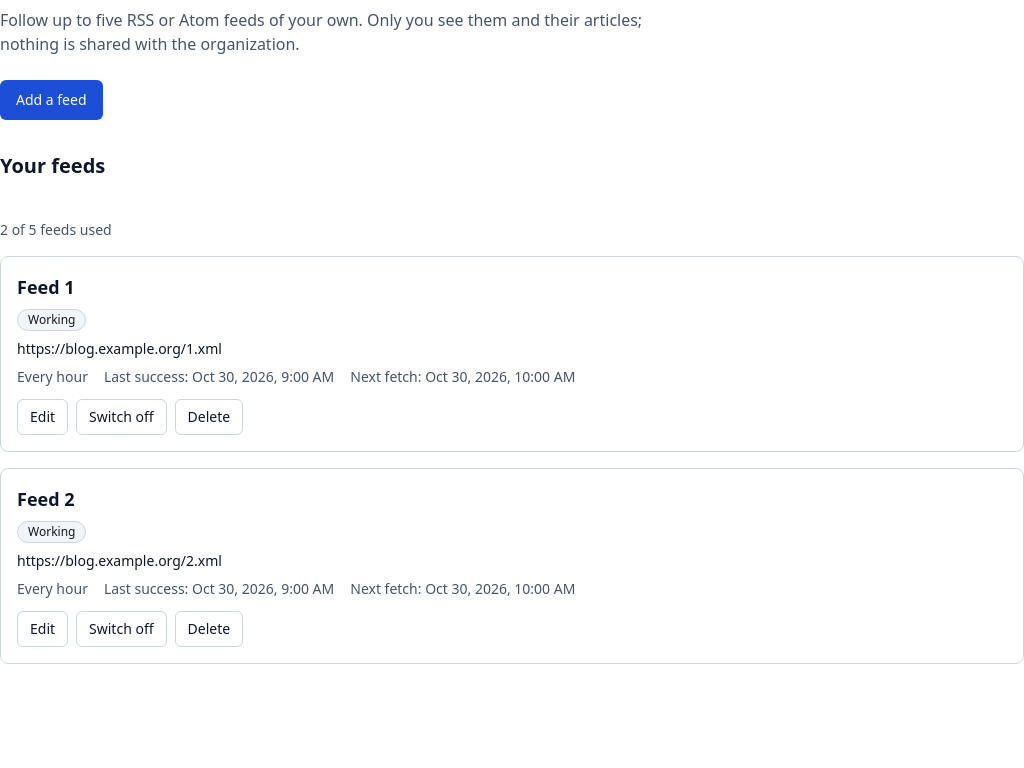
Test: adding › shows a refusal of the address at the field and keeps the dialog
Click the button "Add a feed" at (51, 100), box [0,80,102,120]
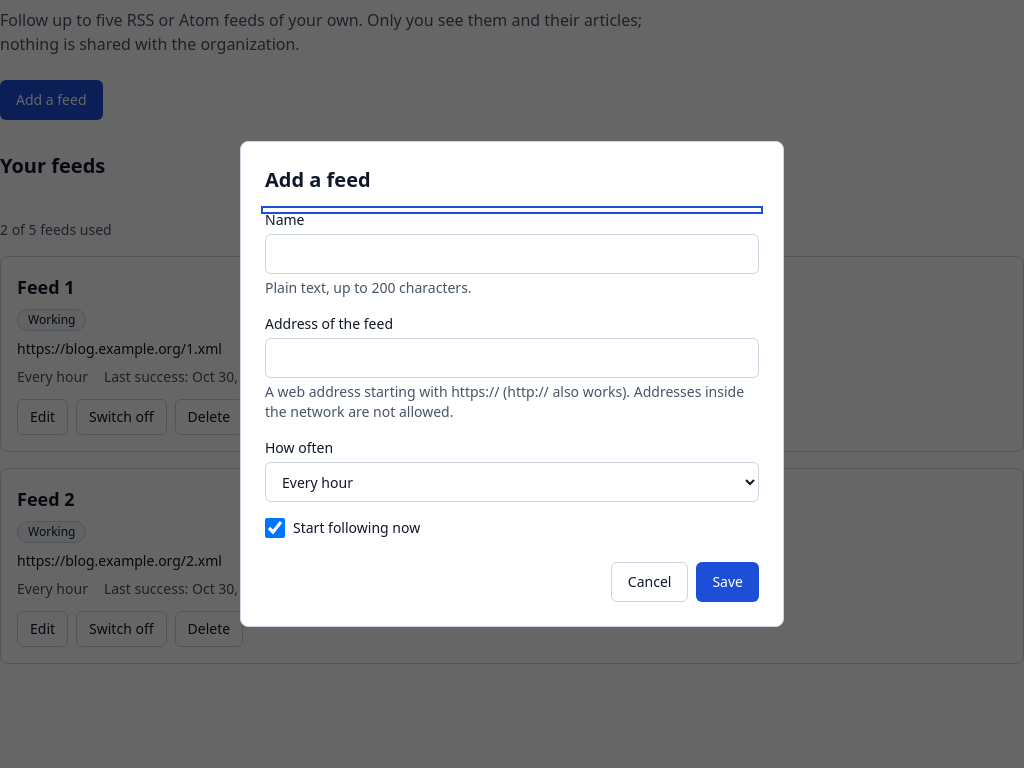
Type "Fresh" into the field labelled "Name" at (512, 254), box [265,234,759,274]
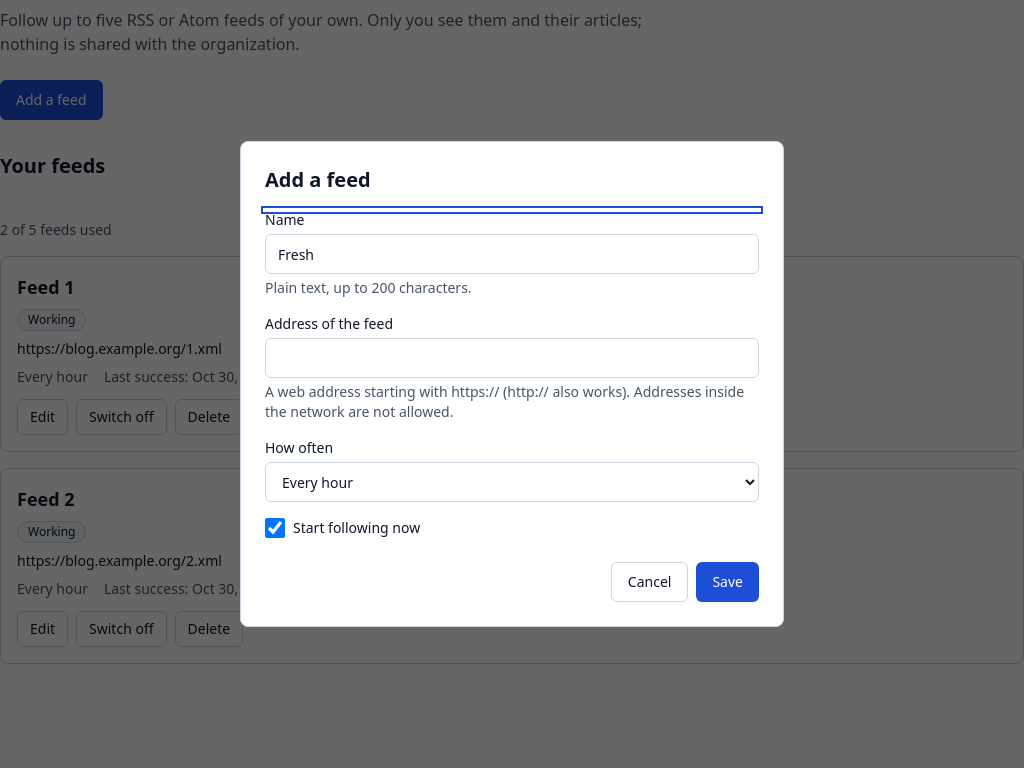
Type "http://127.1/" into the field labelled "Address of the feed" at (512, 358), box [265,338,759,378]
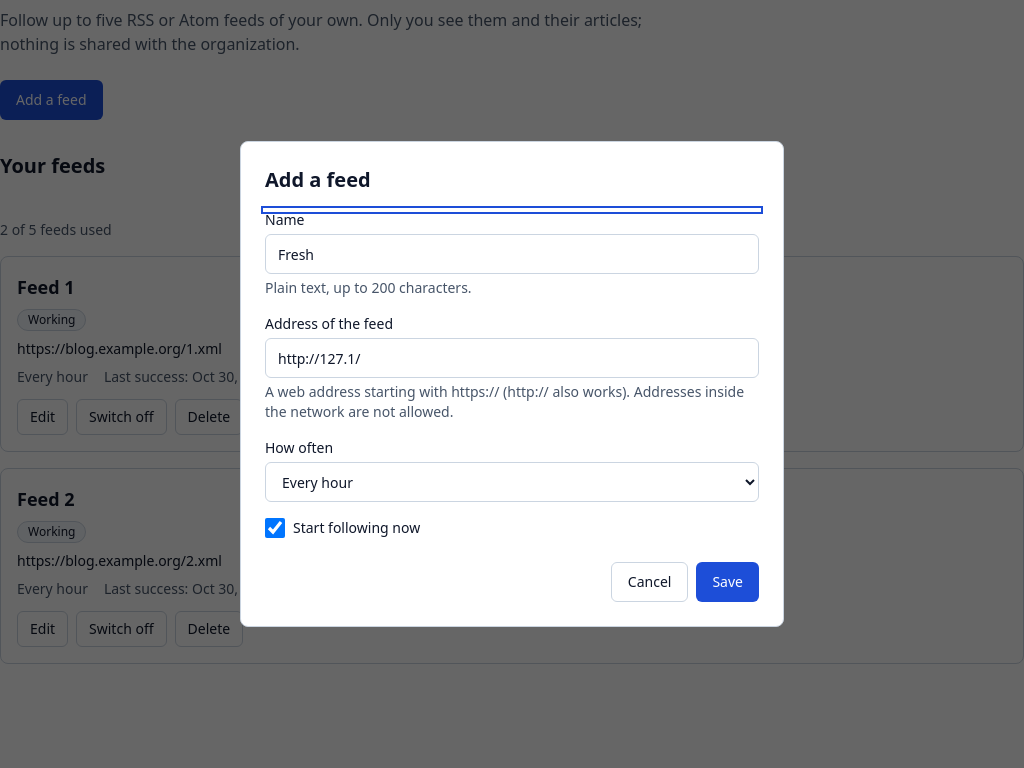
Click the button "Save" at (728, 582), box [696,562,759,602]
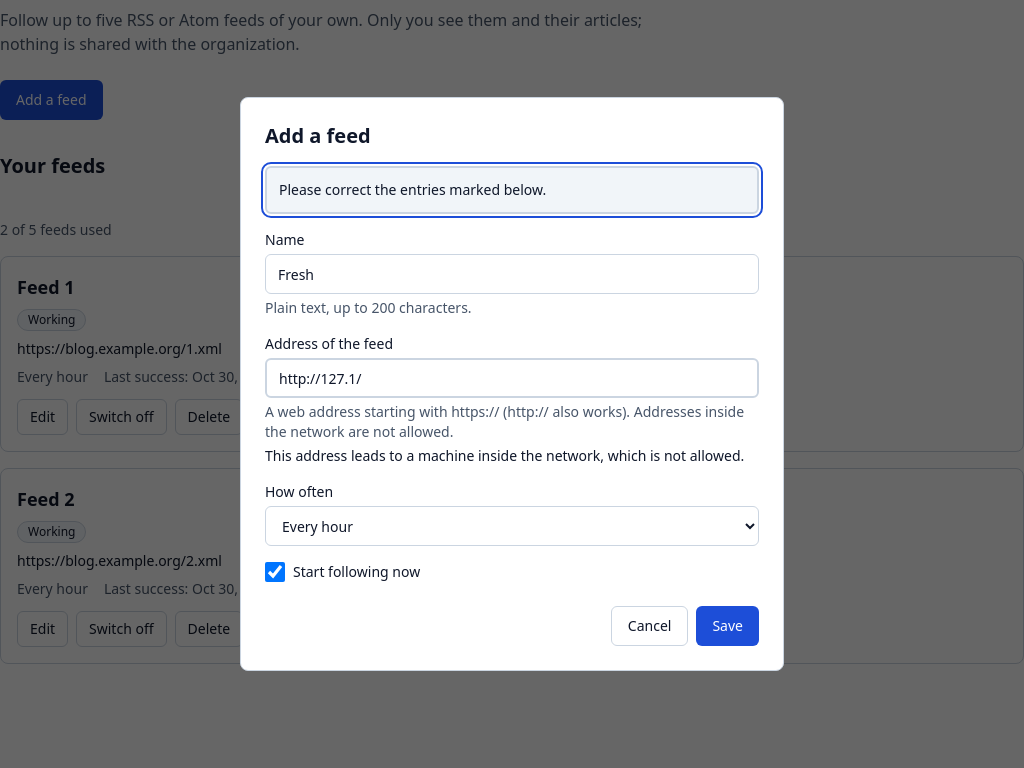
Expected: the dialog is shown, [240,97,784,671]
Expected: the text "This address leads to a machine inside the network, which is not allowed." is shown, [265,446,759,466]
